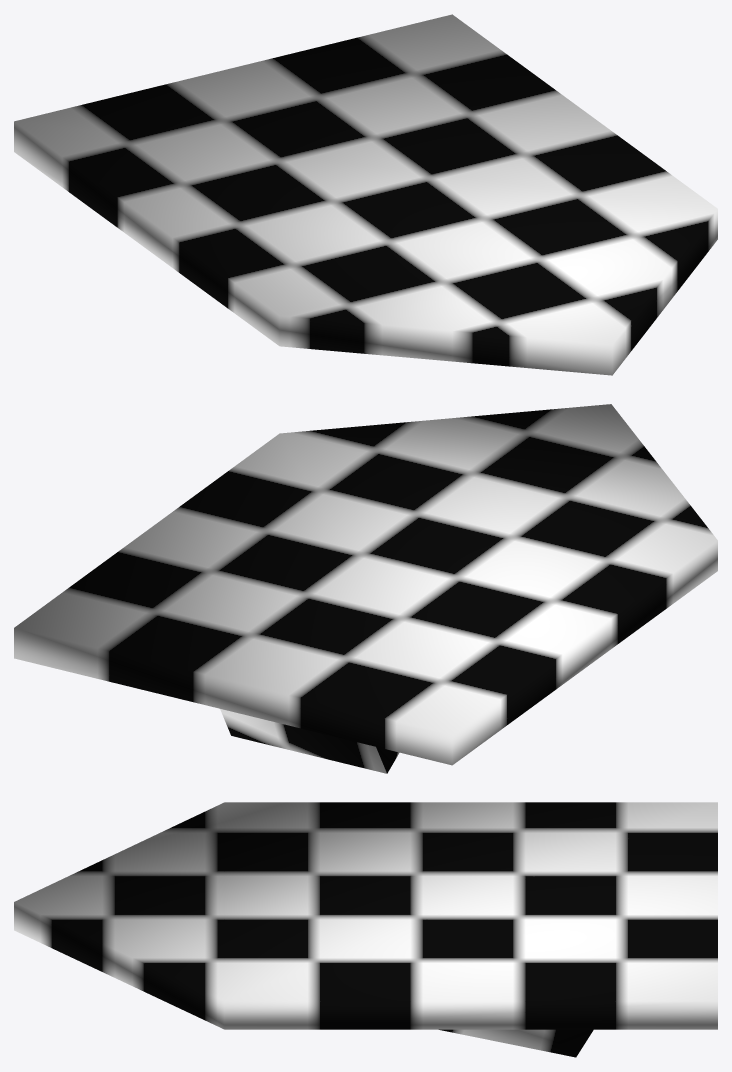
The model's file is initqu25.dae.
The picture shows the model from 3 angles, top to bottom: view 1: azimuth 30°, elevation 25°; view 2: azimuth 150°, elevation 25°; view 3: azimuth 270°, elevation 25°; orthographic projection. The views are drawn at different scales.
Visible parts, largest first — view 1: item; view 2: item; view 3: item.
Part boxes in pixels (bbox=[...]): item: bbox=[14, 14, 717, 375]; item: bbox=[14, 404, 717, 773]; item: bbox=[14, 802, 717, 1057].
Size of the model in its own units: 1.06 by 1.59 by 0.3004.
Materials: 1 (1 with a texture image).
